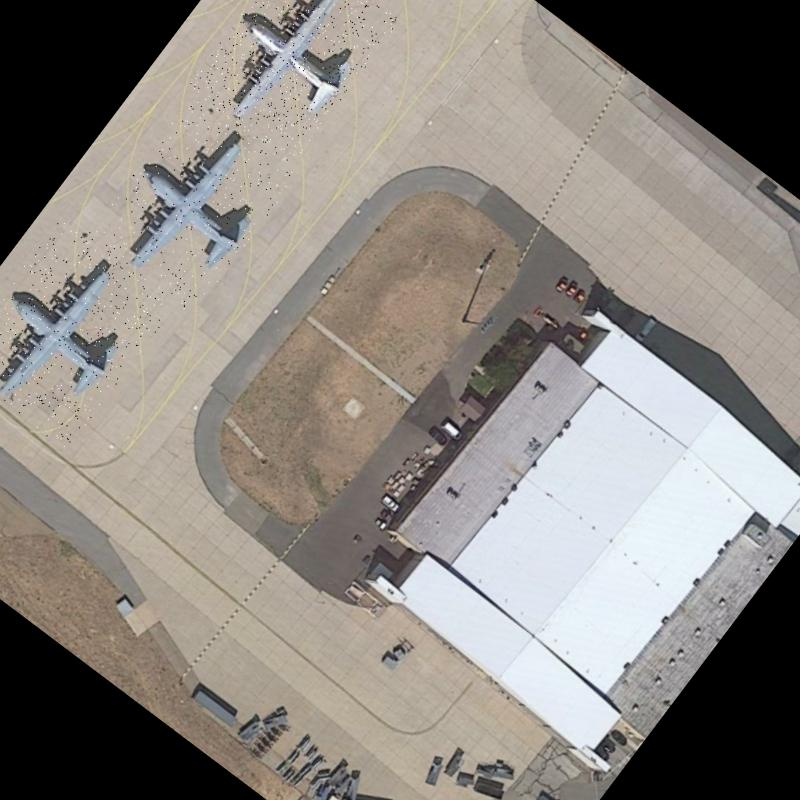A2: (84, 96, 297, 318), (0, 219, 175, 451), (185, 0, 400, 167)
